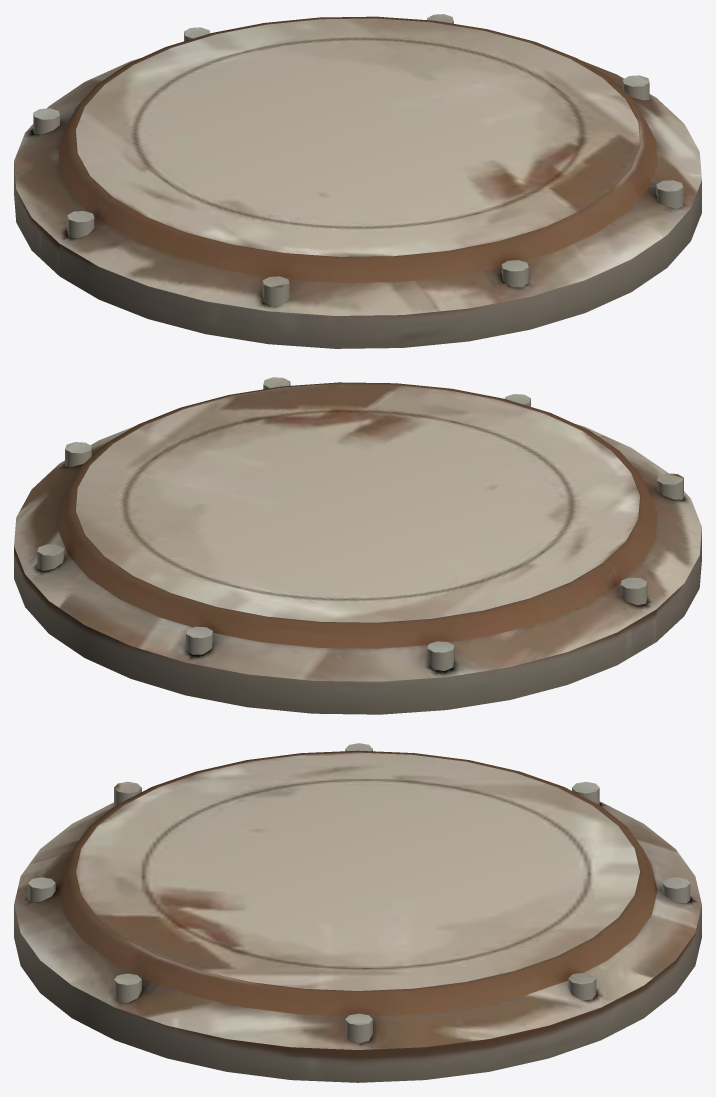
The picture shows the model from 3 angles, top to bottom: view 1: azimuth 30°, elevation 25°; view 2: azimuth 150°, elevation 25°; view 3: azimuth 270°, elevation 25°; orthographic projection.
Parts seen in each view (by area): view 1: body0_model0_lod0_mesh0; view 2: body0_model0_lod0_mesh0; view 3: body0_model0_lod0_mesh0.
Part boxes in pixels (x1=…): body0_model0_lod0_mesh0: x1=14, y1=14, x2=701, y2=348; body0_model0_lod0_mesh0: x1=14, y1=377, x2=701, y2=714; body0_model0_lod0_mesh0: x1=14, y1=743, x2=701, y2=1082.
Bounding box in the file's own units: 128 × 13.48 × 128.
Materials: 1 (1 with a texture image).
